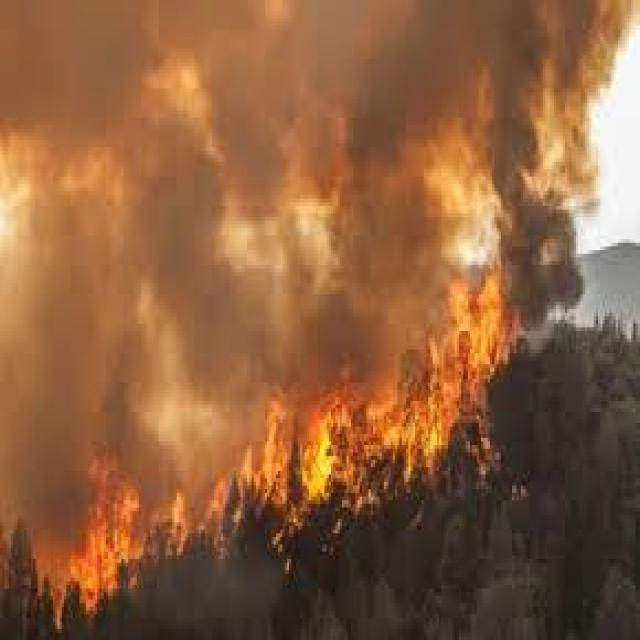Fire: (7, 433, 636, 640), (245, 351, 561, 511)
Smoke: (8, 20, 629, 245)
